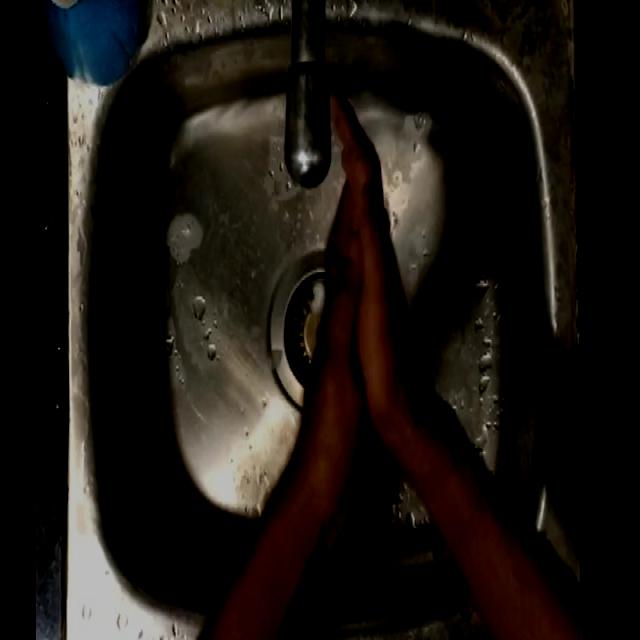step_1: (291, 80, 414, 447)
